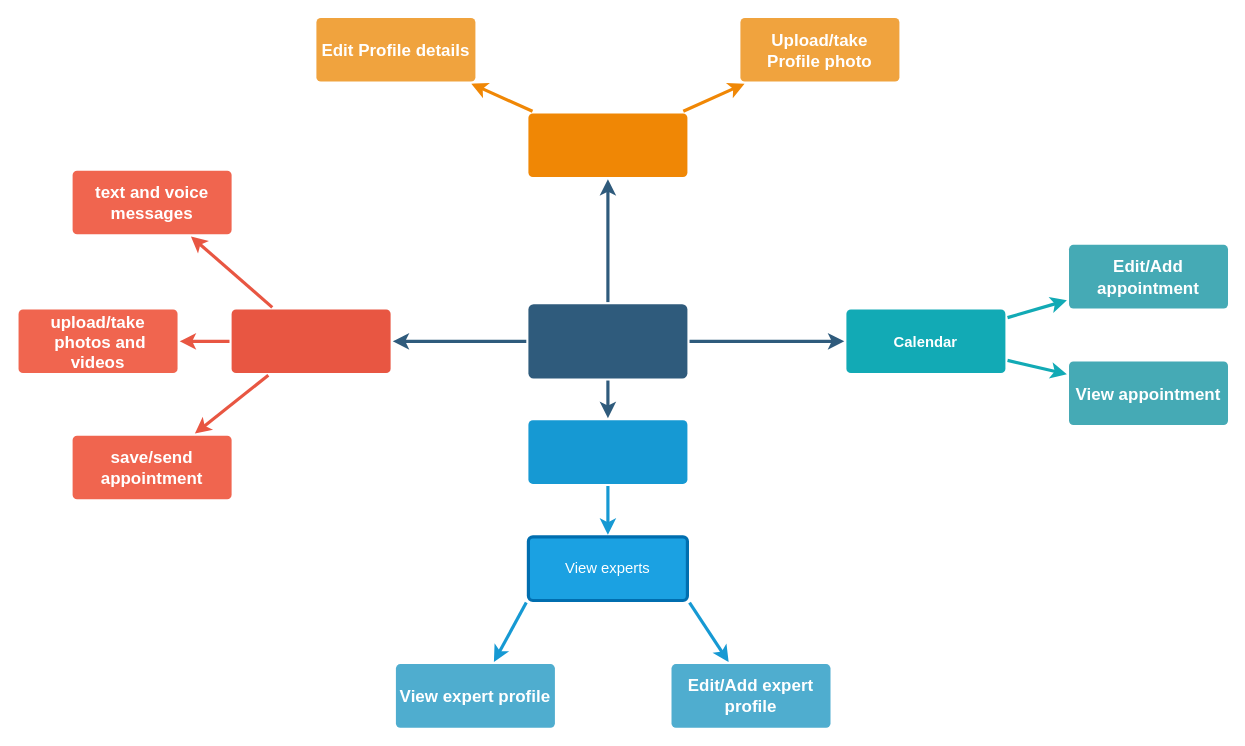
This 1245x746 diagram has some shape labels left out. Here are the shapes that lost their labels. From the top down, the centre of each, then its label:
pixel 607 144: Profile
pixel 310 341: Message Board
pixel 607 341: Get Help App Main Interface
pixel 607 451: Help Options
